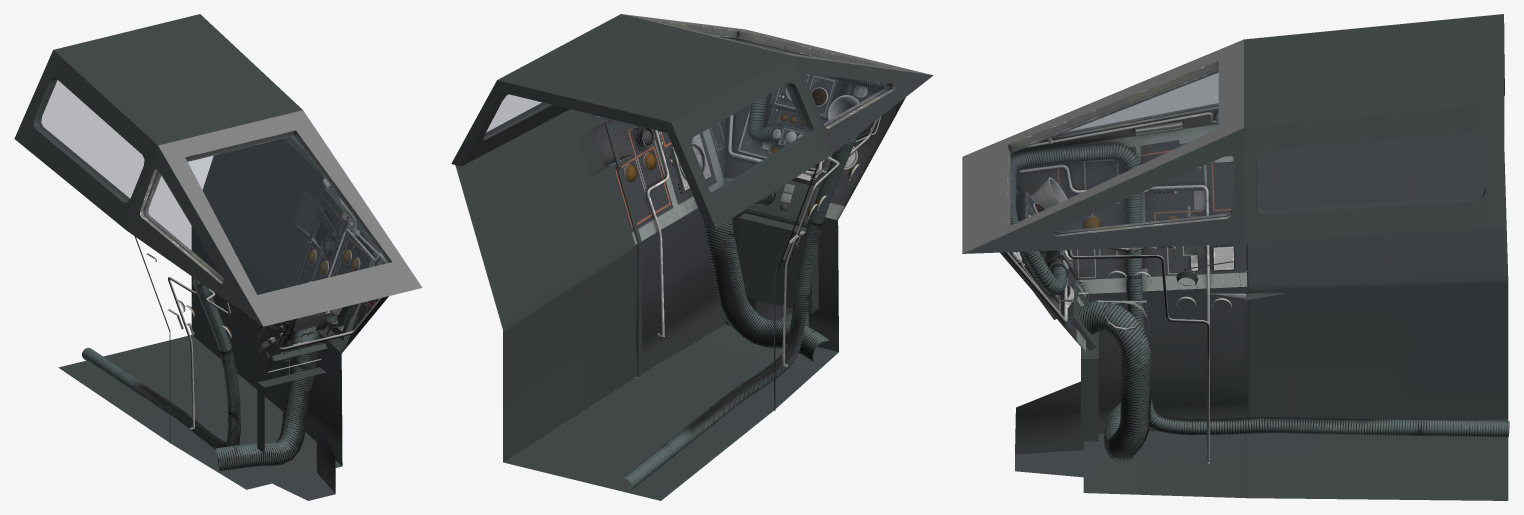
The model's file is ywingcockpit.glb.
3 renders of one model, left to right at view 1: azimuth 30°, elevation 25°; view 2: azimuth 150°, elevation 25°; view 3: azimuth 270°, elevation 25°, orthographic. The views are drawn at different scales.
Size of the model in its own units: 1.63 by 2.25 by 2.76.
3 materials, 1 textured.
